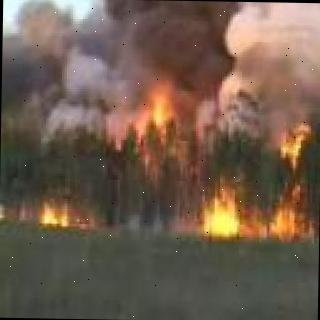fire: (200, 138, 312, 238), (148, 83, 176, 132), (42, 197, 82, 230)
